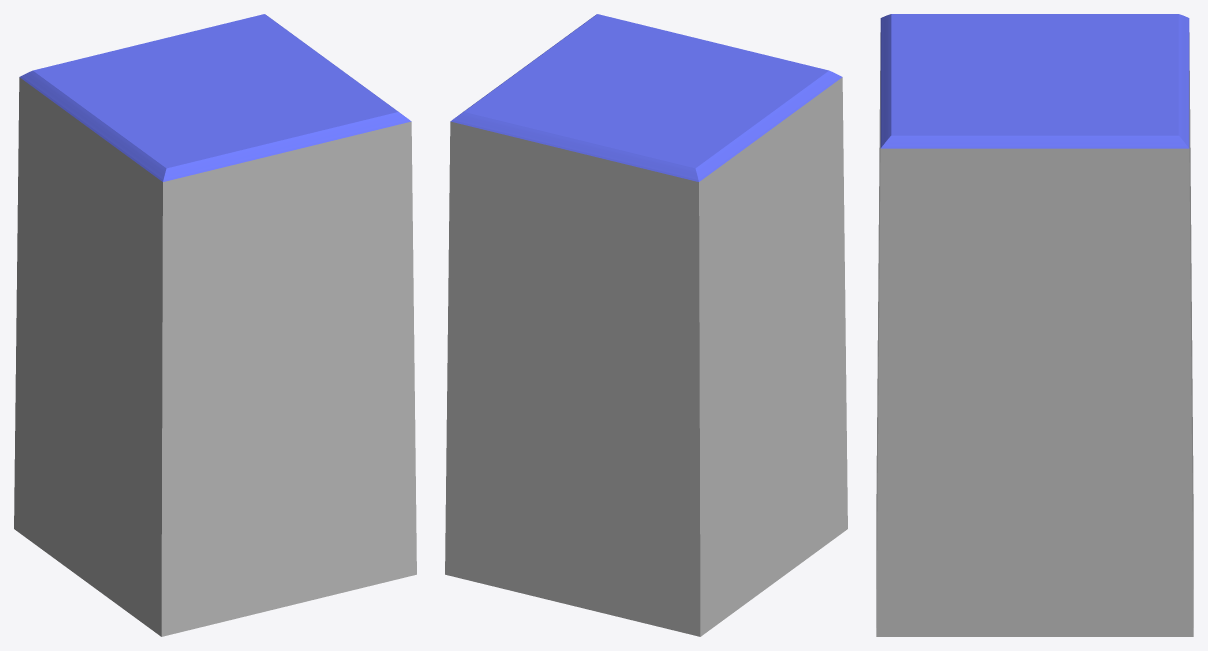
Rendered from SkyScraper_1.fbx.
The picture shows the model from 3 angles, left to right: view 1: azimuth 30°, elevation 25°; view 2: azimuth 150°, elevation 25°; view 3: azimuth 270°, elevation 25°; orthographic projection. The views are drawn at different scales.
Parts seen in each view (by area): view 1: Cube; view 2: Cube; view 3: Cube.
Boxes of the visible parts, x1,y1,x2,y2 form: Cube: (14,14,416,636); Cube: (445,14,847,636); Cube: (876,14,1193,636).
Size of the model in its own units: 295 by 508 by 295.
